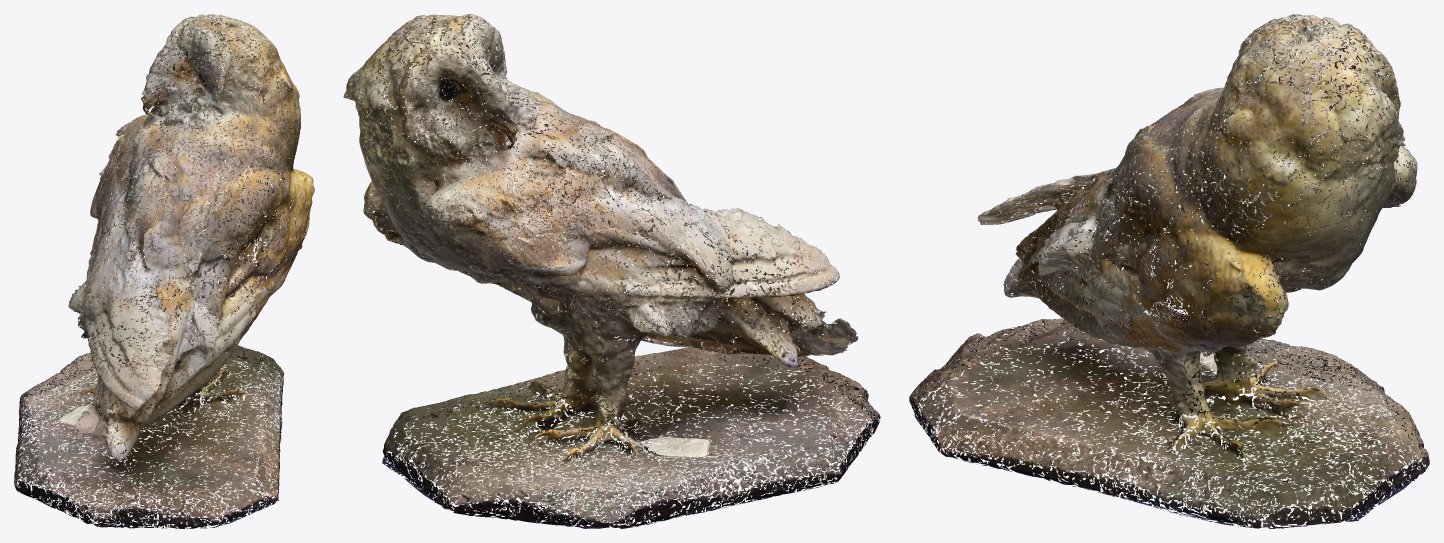
Rendered from n2__barnowl.glb.
3 renders of one model, left to right at view 1: azimuth 30°, elevation 25°; view 2: azimuth 150°, elevation 25°; view 3: azimuth 270°, elevation 25°, orthographic. The views are drawn at different scales.
Visible parts, largest first — view 1: Object_7, Object_2, Object_8, Object_9, Object_4, Object_3, Object_10, Object_5, Object_11, Object_6; view 2: Object_3, Object_2, Object_7, Object_8, Object_4, Object_9, Object_5, Object_10, Object_11, Object_6; view 3: Object_7, Object_9, Object_3, Object_2, Object_8, Object_4, Object_5, Object_10, Object_11, Object_6.
Boxes of the visible parts, x1,y1,x2,y2 form: Object_7: (23, 18, 309, 528); Object_2: (16, 14, 311, 527); Object_8: (14, 15, 306, 521); Object_9: (14, 15, 308, 527); Object_4: (15, 15, 314, 528); Object_3: (15, 14, 312, 527); Object_10: (14, 14, 314, 528); Object_5: (15, 14, 312, 528); Object_11: (16, 25, 309, 526); Object_6: (19, 15, 309, 521); Object_3: (343, 15, 880, 526); Object_2: (358, 14, 880, 525); Object_7: (359, 15, 871, 526); Object_8: (346, 28, 869, 524); Object_4: (355, 14, 879, 524); Object_9: (344, 15, 875, 528); Object_5: (343, 15, 879, 528); Object_10: (349, 15, 876, 528); Object_11: (346, 15, 872, 520); Object_6: (356, 14, 836, 523); Object_7: (913, 17, 1429, 527); Object_9: (910, 14, 1420, 527); Object_3: (909, 14, 1429, 512); Object_2: (935, 18, 1428, 526); Object_8: (919, 15, 1428, 528); Object_4: (910, 15, 1428, 528); Object_5: (913, 14, 1425, 526); Object_10: (913, 16, 1420, 525); Object_11: (913, 14, 1425, 528); Object_6: (959, 14, 1416, 516).
Bounding box in the file's own units: 7.17 × 7.25 × 7.09.
Materials: 2 (2 with a texture image).
